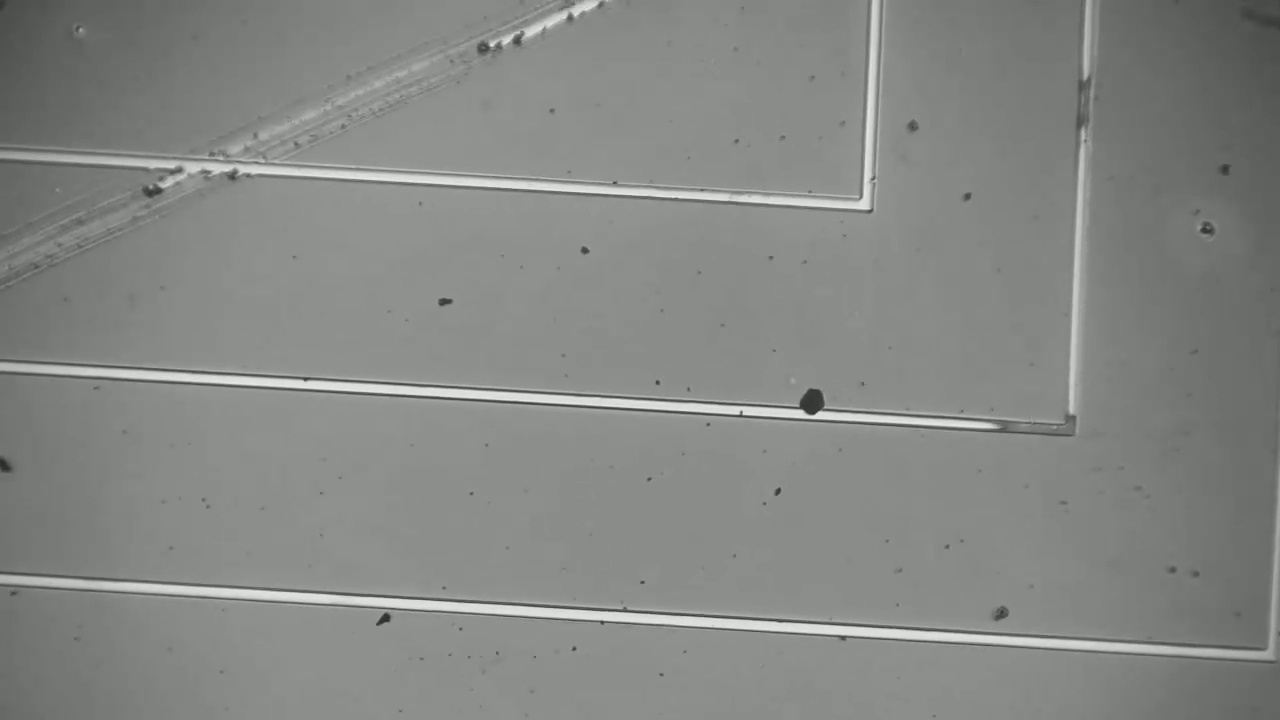edge_bite: (855, 169, 880, 189)
gray_line: (970, 413, 1086, 439), (1070, 58, 1099, 141), (1059, 397, 1085, 448)
scratch: (0, 1, 612, 287)
stains_enbedded: (786, 383, 833, 430)
